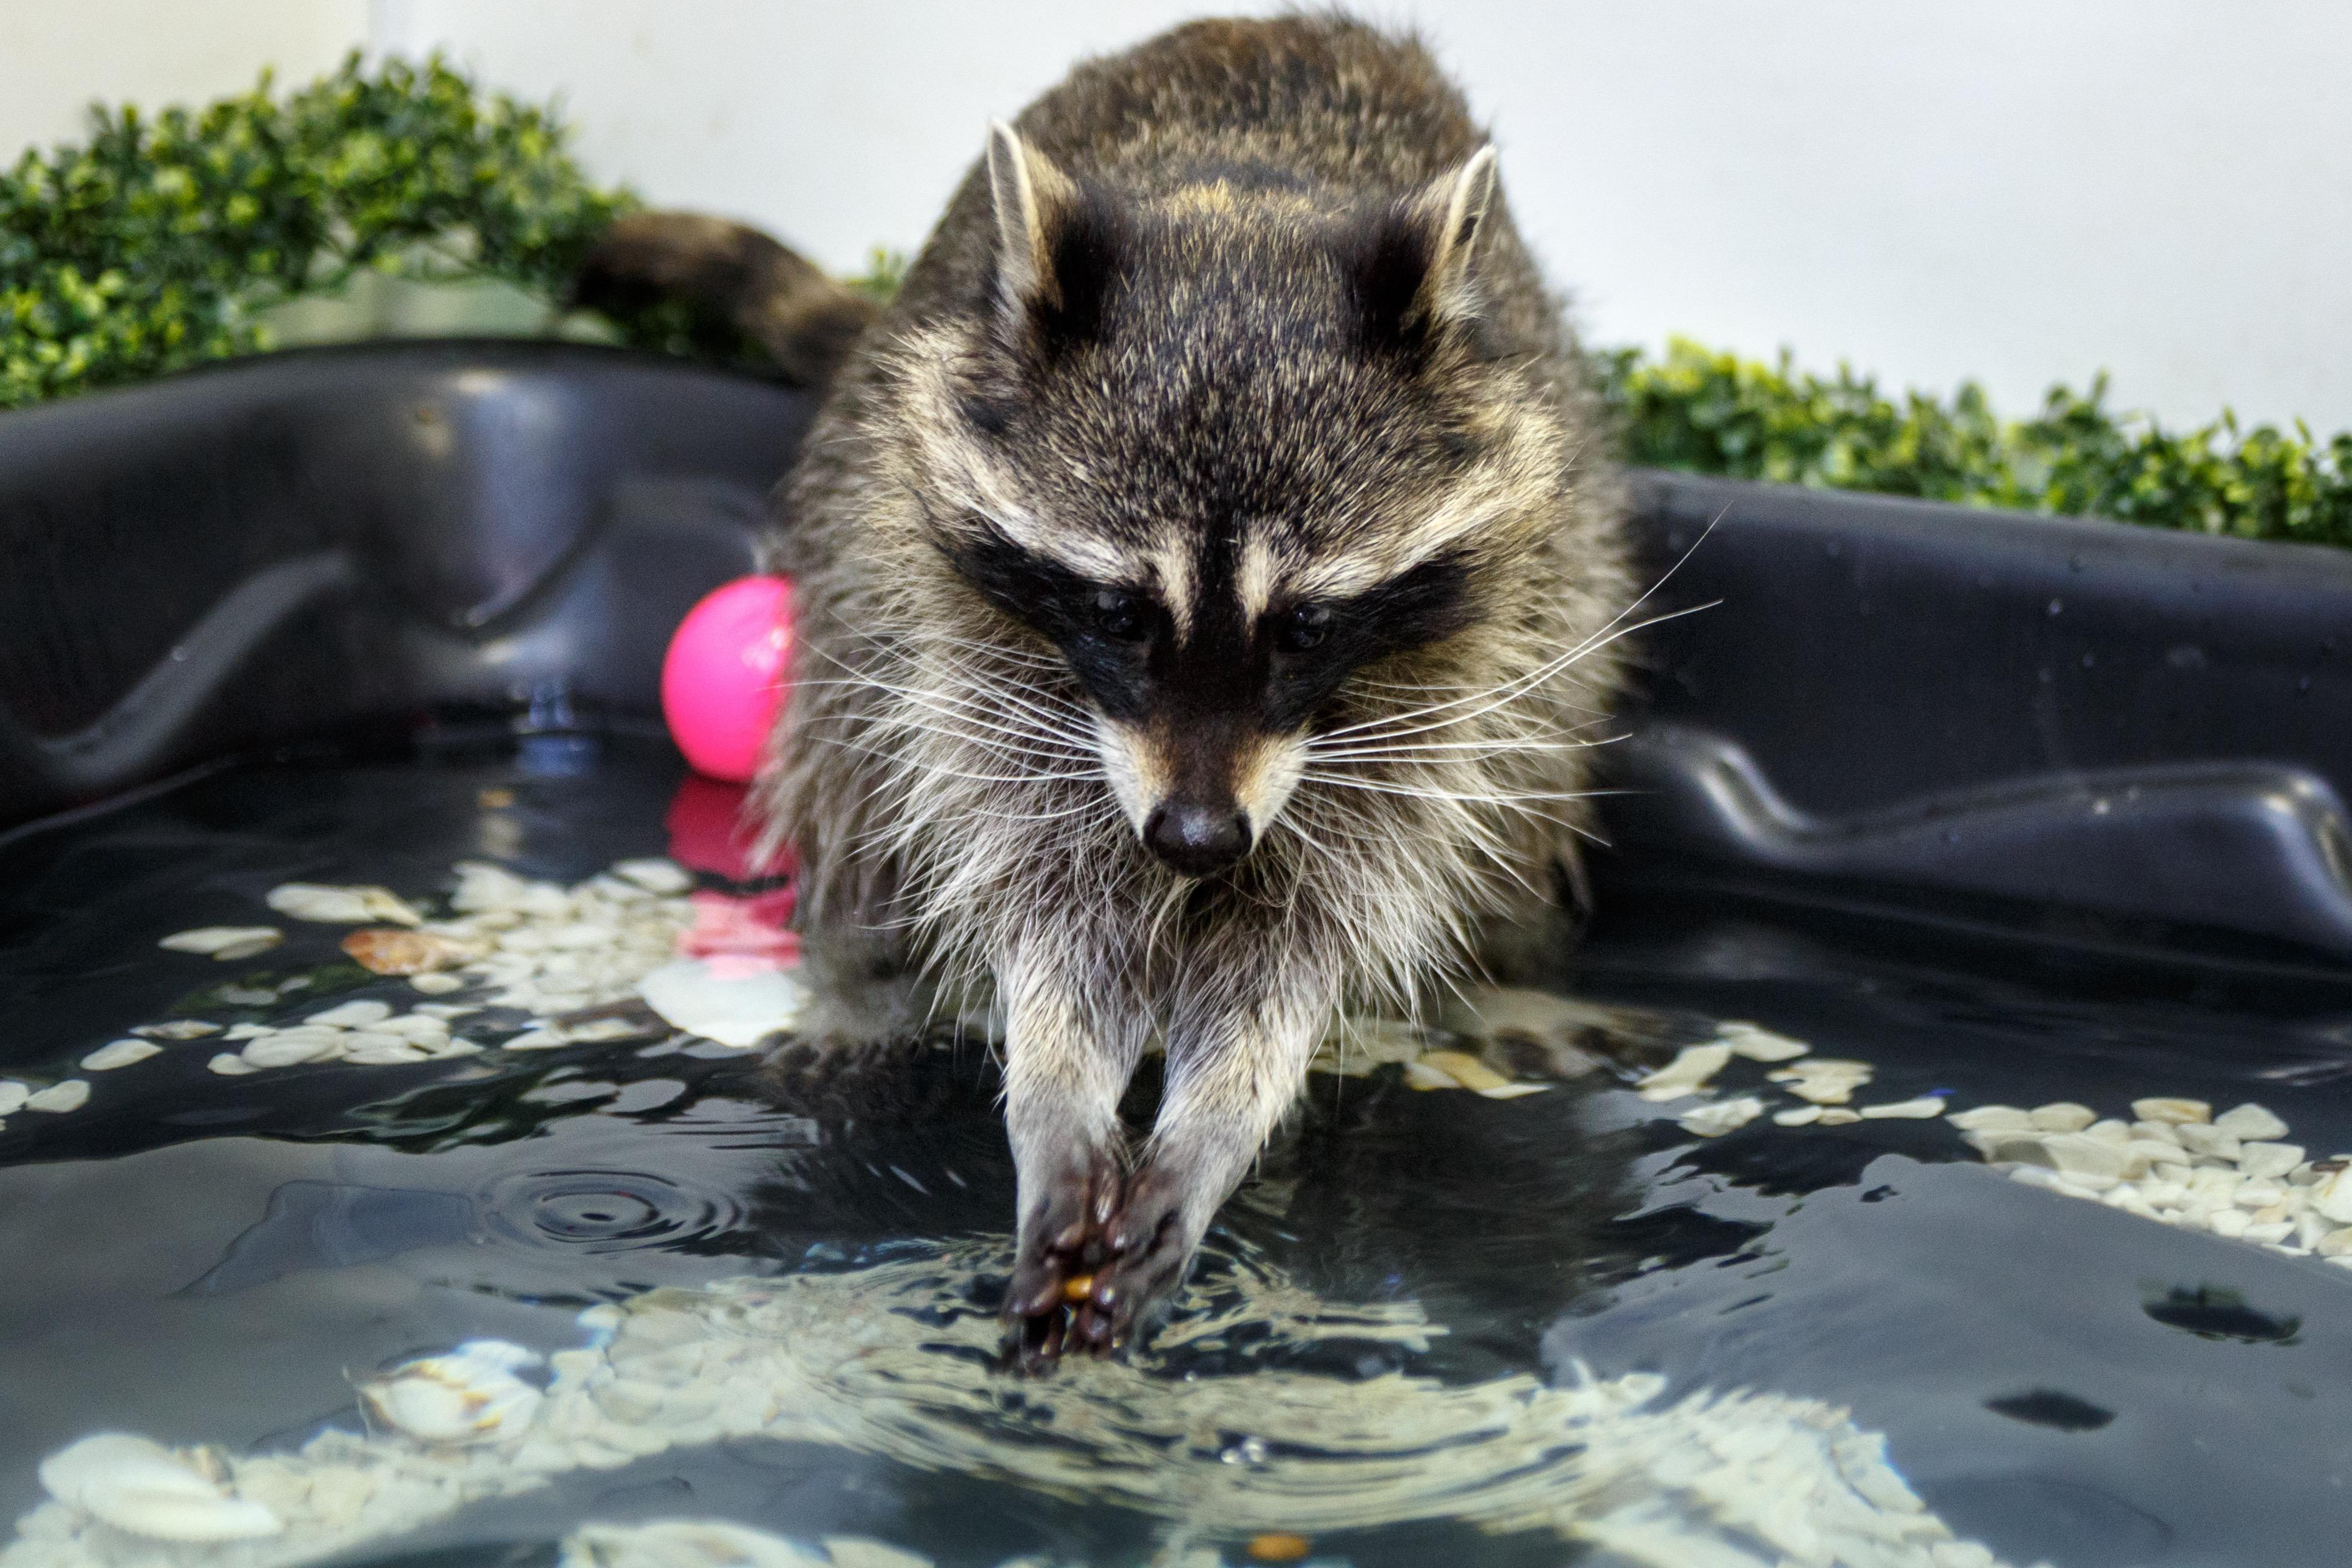raccoon: (767, 0, 1665, 1366)
